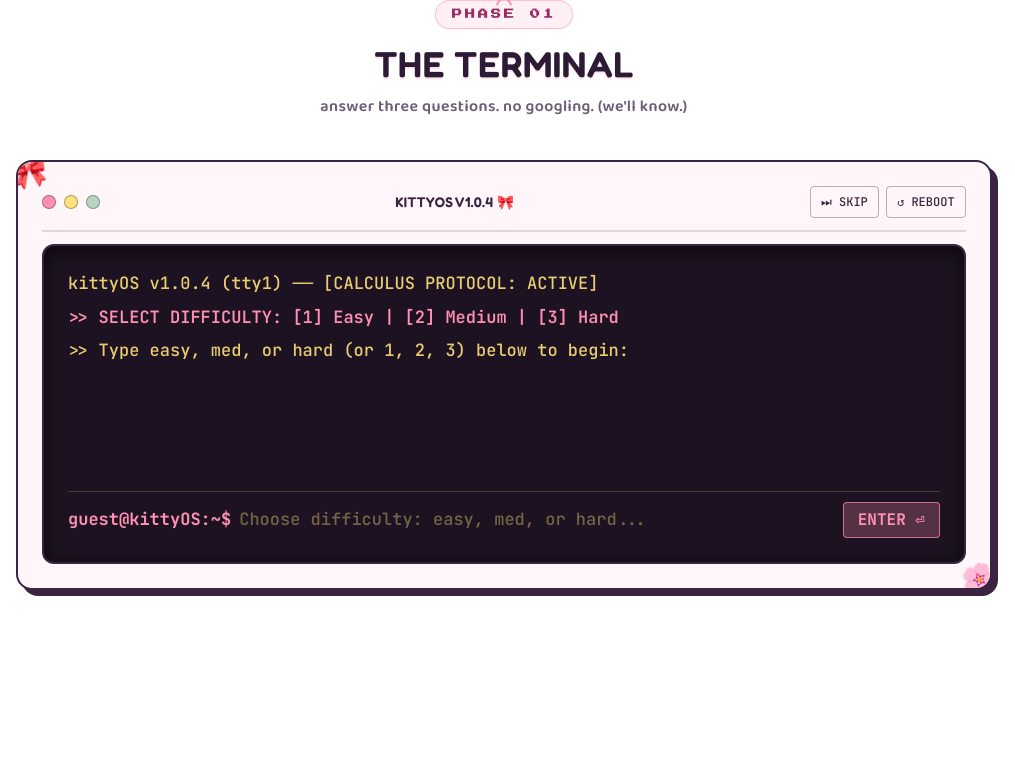
KittyOS Terminal Quiz Workflow › Q2: Option Selector & Reveal Flow › tapping an option selects it directly
The width and height of the screenshot is (1015, 764).
In the field named "kittyOS terminal command input": (537, 520) [239, 507, 835, 533], type "easy"
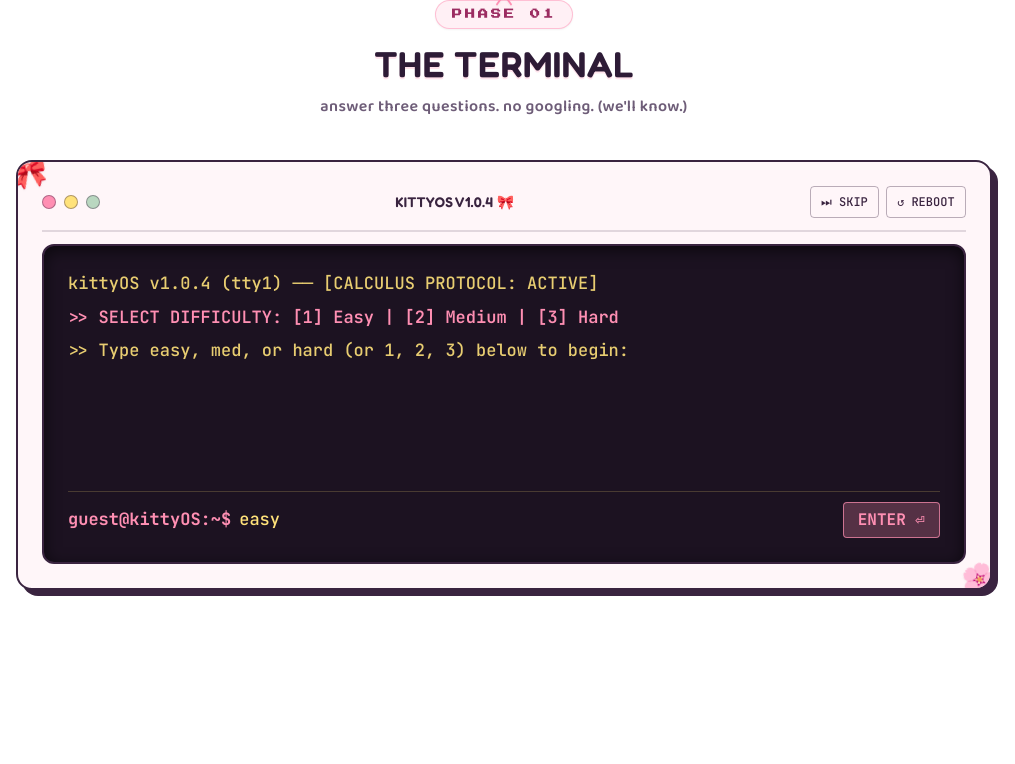
Submit the form named "kittyOS terminal command input", box [68, 491, 940, 538]
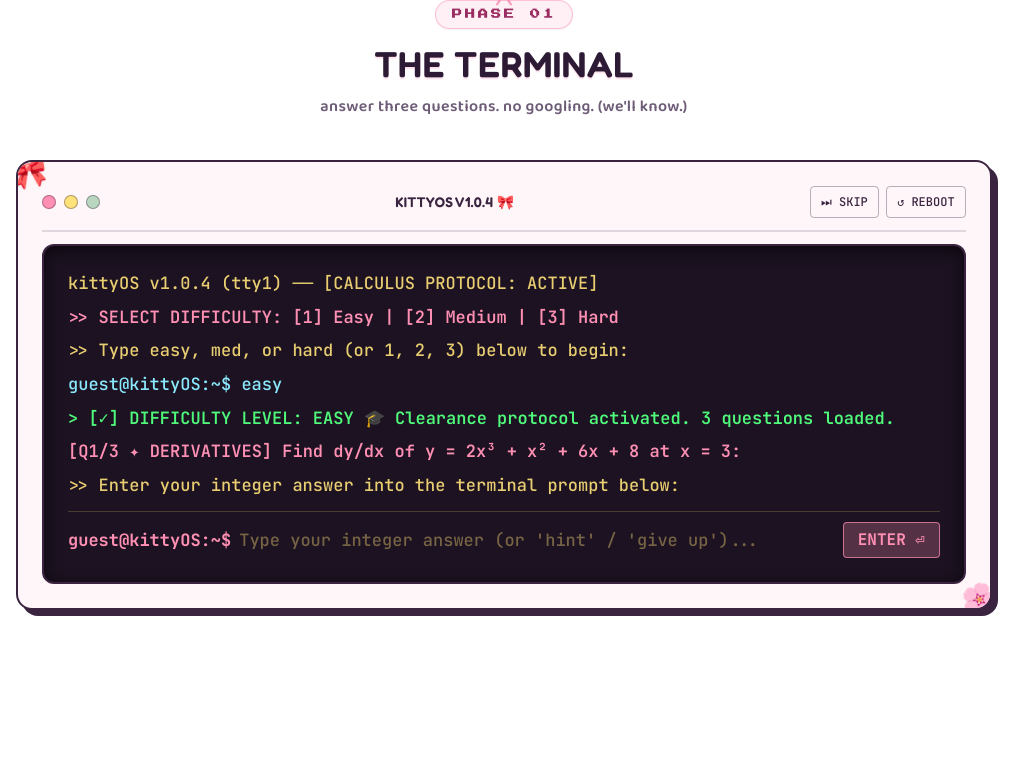
In the field named "kittyOS terminal command input": (537, 540) [239, 528, 835, 553], type "give up"
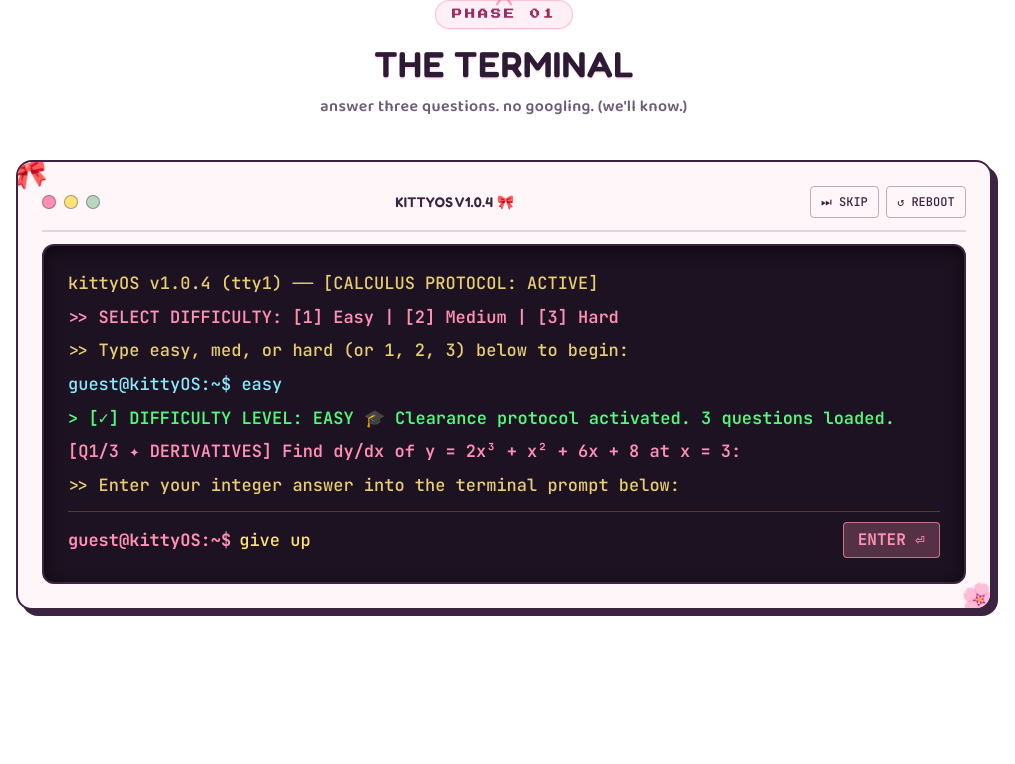
Submit the form named "kittyOS terminal command input", box [68, 511, 940, 558]
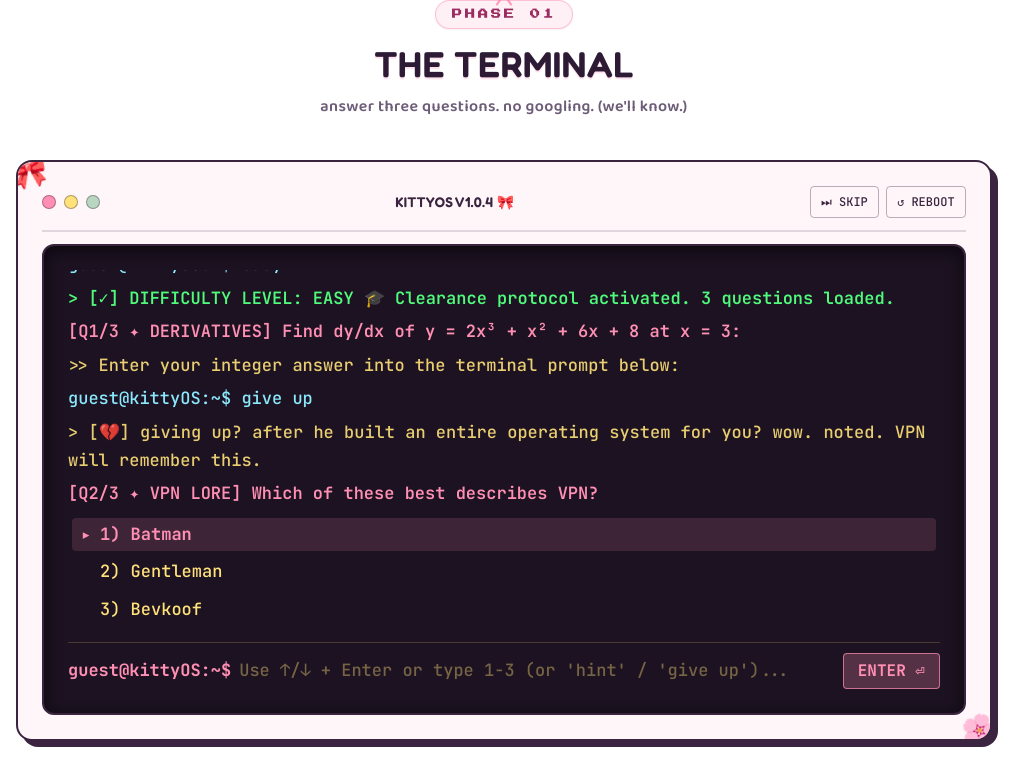
Tap "3) Bevkoof"
Click the option "3) Bevkoof": (166, 609) [72, 593, 936, 626]
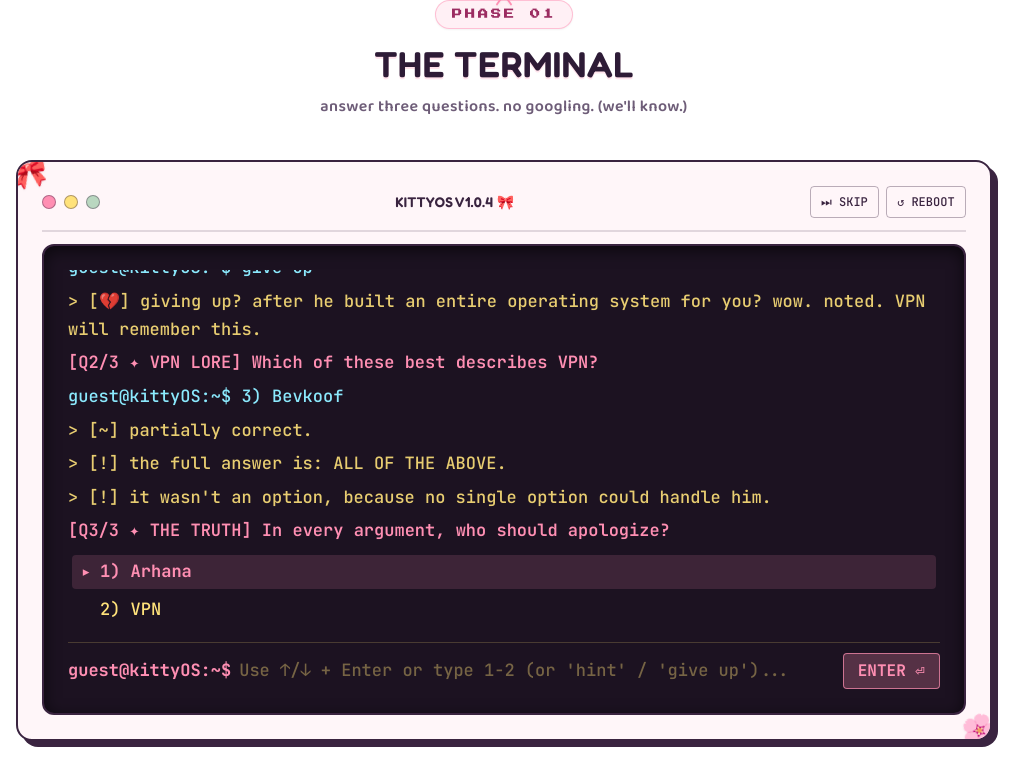
Expected: the element with test id "terminal-logs-container" shows "> [~] partially correct.", [68, 418, 313, 440]
Expected: the element with test id "terminal-logs-container" shows "> [!] the full answer is: ALL OF THE ABOVE.", [68, 452, 507, 474]
Expected: the text "[Q3/3 ✦ THE TRUTH] In every argument, who should apologize?" is shown, [68, 519, 670, 541]
